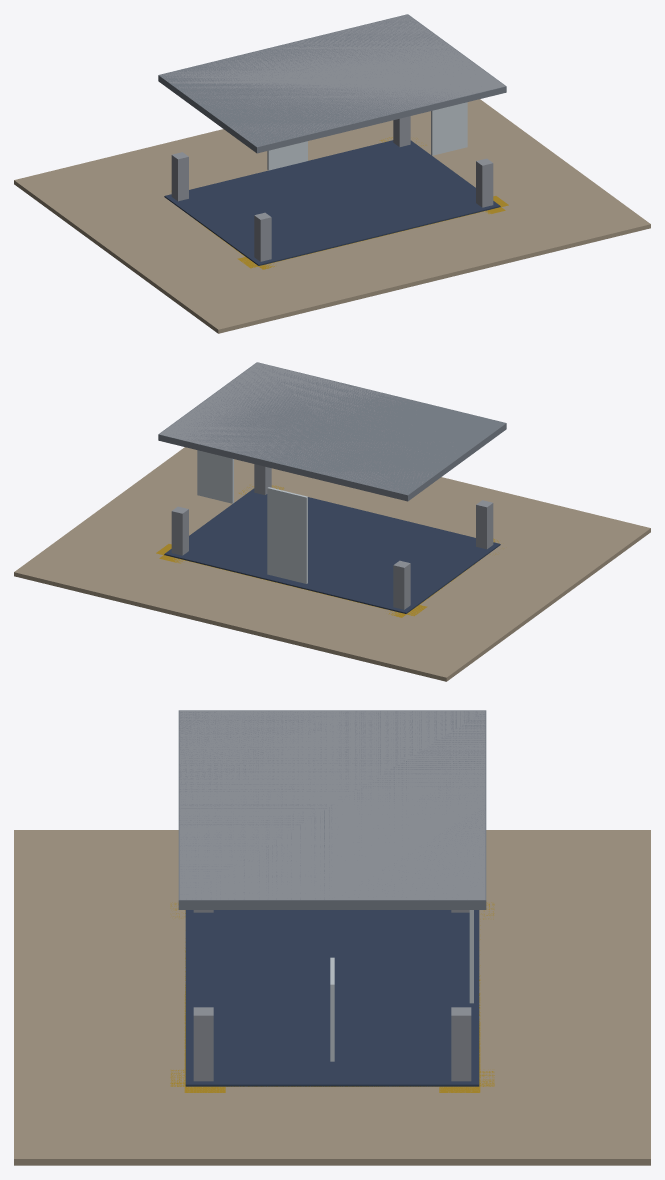
The model's file is stage_08_bands.glb.
3 views of the same model, one above another, from view 1: azimuth 30°, elevation 25°; view 2: azimuth 150°, elevation 25°; view 3: azimuth 270°, elevation 25° (orthographic). The views are drawn at different scales.
Parts seen in each view (by area): view 1: world; view 2: world; view 3: world.
Part boxes in pixels (box(x1,y1,x2,y2)): world: box(14, 14, 650, 333); world: box(14, 362, 650, 681); world: box(14, 710, 650, 1165).
Size of the model in its own units: 11 by 3.75 by 9.
